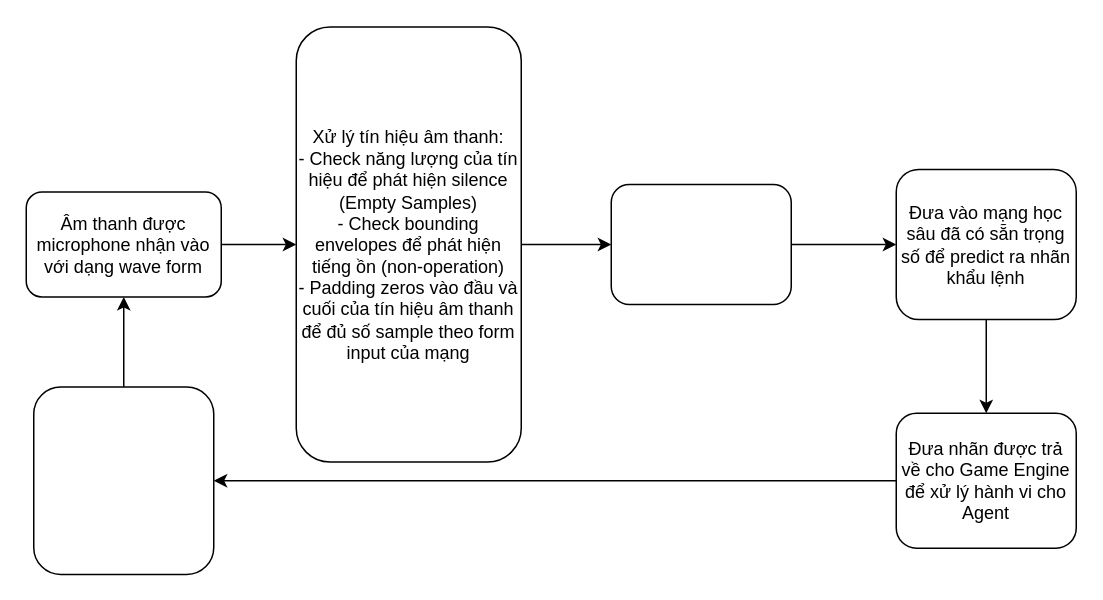
This 1103x600 diagram has some shape labels left out. Here are the shapes that lost their labels. From the top down, the centre of each, then its label:
pixel 700 243: Trích chọn 39 hệ số đặc trưng MFCCs từ Tín hiệu nhận vào
pixel 123 480: Nhận tín hiệu real time mỗi 0.8 giây
